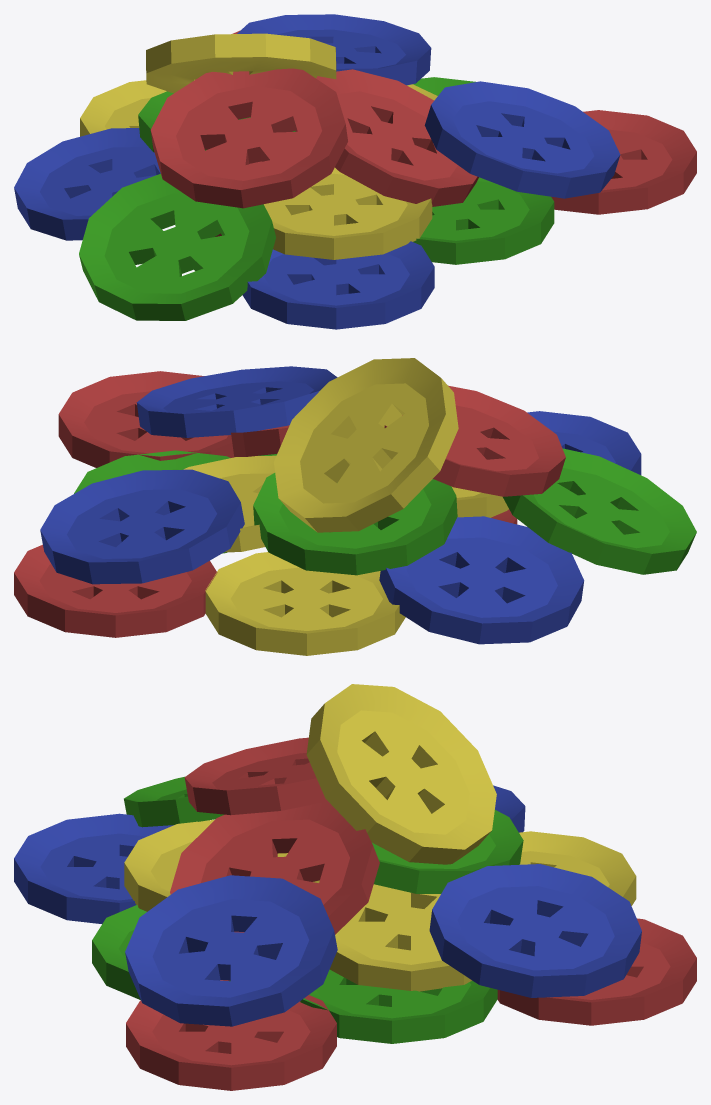
The model's file is Enviro_Button_Pile_001.fbx.
3 renders of one model, top to bottom at view 1: azimuth 30°, elevation 25°; view 2: azimuth 150°, elevation 25°; view 3: azimuth 270°, elevation 25°, orthographic. The views are drawn at different scales.
Visible parts, largest first — view 1: pCylinder20, pCylinder17, pCylinder26, pCylinder19, pCylinder15, pCylinder13, pCylinder16, pCylinder25, pCylinder14, pCylinder21, pCylinder23, pCylinder11 (+2 smaller); view 2: pCylinder21, pCylinder13, pCylinder23, pCylinder11, pCylinder17, pCylinder22, pCylinder18, pCylinder26, pCylinder20, pCylinder25, pCylinder15, pCylinder12 (+3 smaller); view 3: pCylinder26, pCylinder21, pCylinder23, pCylinder19, pCylinder25, pCylinder15, pCylinder12, pCylinder24, pCylinder22, pCylinder20, pCylinder18, pCylinder11 (+4 smaller).
Boxes of the visible parts, x1,y1,x2,y2 form: pCylinder20: [150, 68, 347, 208]; pCylinder17: [79, 173, 275, 320]; pCylinder26: [424, 81, 620, 198]; pCylinder19: [316, 69, 478, 206]; pCylinder15: [242, 241, 434, 329]; pCylinder13: [14, 128, 160, 240]; pCylinder16: [264, 167, 432, 259]; pCylinder25: [551, 110, 696, 214]; pCylinder14: [413, 177, 554, 264]; pCylinder21: [146, 33, 336, 93]; pCylinder23: [237, 14, 431, 85]; pCylinder11: [80, 80, 166, 136]; pCylinder21: [274, 358, 458, 532]; pCylinder13: [379, 516, 584, 644]; pCylinder23: [40, 469, 244, 584]; pCylinder11: [205, 552, 405, 655]; pCylinder17: [503, 448, 696, 574]; pCylinder22: [14, 544, 217, 637]; pCylinder18: [253, 473, 457, 575]; pCylinder26: [136, 366, 337, 437]; pCylinder20: [384, 385, 565, 496]; pCylinder25: [58, 371, 234, 467]; pCylinder15: [527, 411, 641, 474]; pCylinder12: [183, 455, 276, 552]; pCylinder26: [125, 875, 337, 1026]; pCylinder21: [306, 684, 496, 864]; pCylinder23: [429, 864, 641, 997]; pCylinder19: [170, 800, 379, 934]; pCylinder25: [126, 980, 336, 1090]; pCylinder15: [14, 813, 173, 923]; pCylinder12: [329, 884, 471, 991]; pCylinder24: [300, 969, 497, 1043]; pCylinder22: [497, 918, 696, 1025]; pCylinder20: [184, 737, 326, 815]; pCylinder18: [372, 810, 523, 893]; pCylinder11: [519, 831, 636, 905].
Size of the model in its own units: 1.34 by 0.4122 by 1.25.
